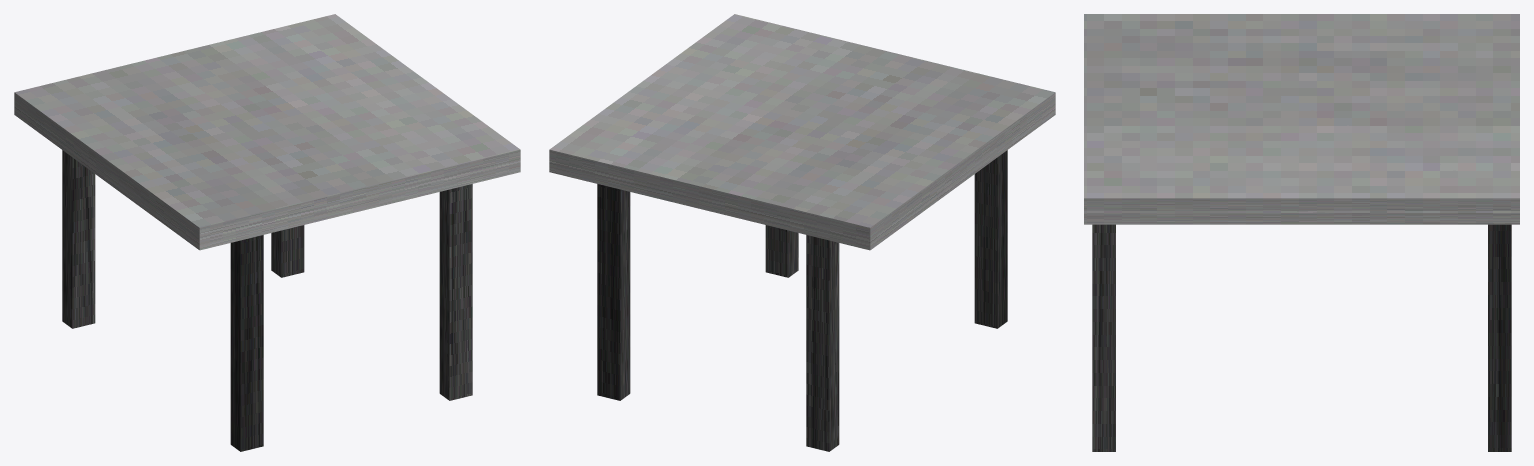
The model's file is Mesita.gltf.
3 renders of one model, left to right at view 1: azimuth 30°, elevation 25°; view 2: azimuth 150°, elevation 25°; view 3: azimuth 270°, elevation 25°, orthographic. The views are drawn at different scales.
Parts seen in each view (by area): view 1: Cube.001, Cube; view 2: Cube.001, Cube; view 3: Cube.001, Cube.
Boxes of the visible parts, x1=… form: Cube.001: x1=14, y1=14, x2=520, y2=250; Cube: x1=62, y1=150, x2=472, y2=451; Cube.001: x1=549, y1=14, x2=1055, y2=250; Cube: x1=597, y1=150, x2=1007, y2=451; Cube.001: x1=1084, y1=14, x2=1519, y2=224; Cube: x1=1092, y1=224, x2=1511, y2=451.
Size of the model in its own units: 5.62 by 3.97 by 5.62.
2 materials, 2 textured.
